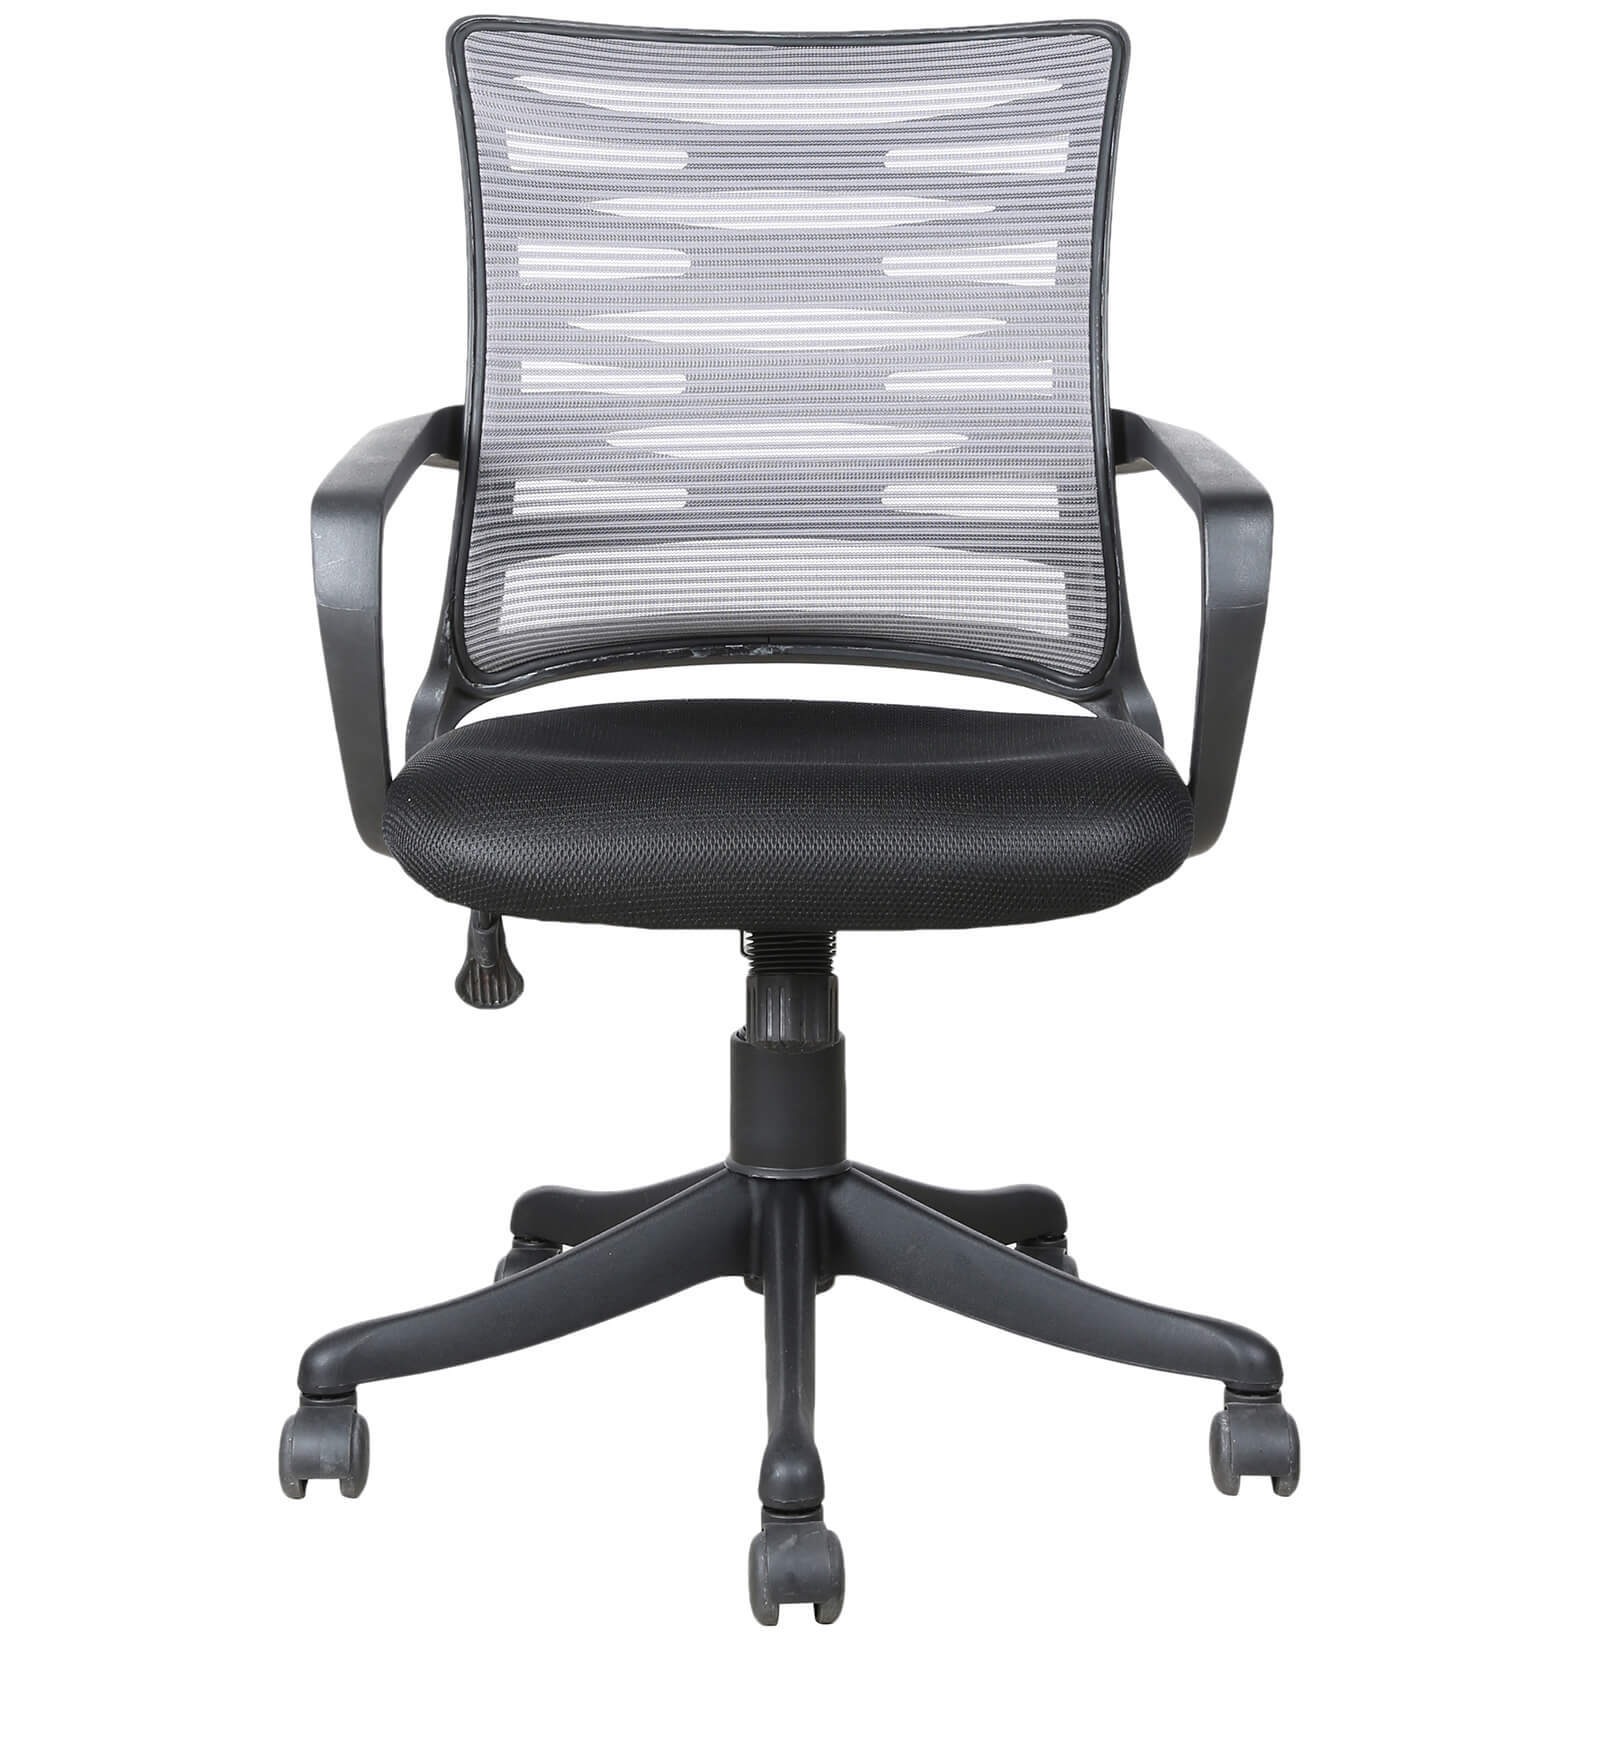Astec Ergonomic Chair in Grey Colour by Parin: (248, 23, 1352, 1663)
